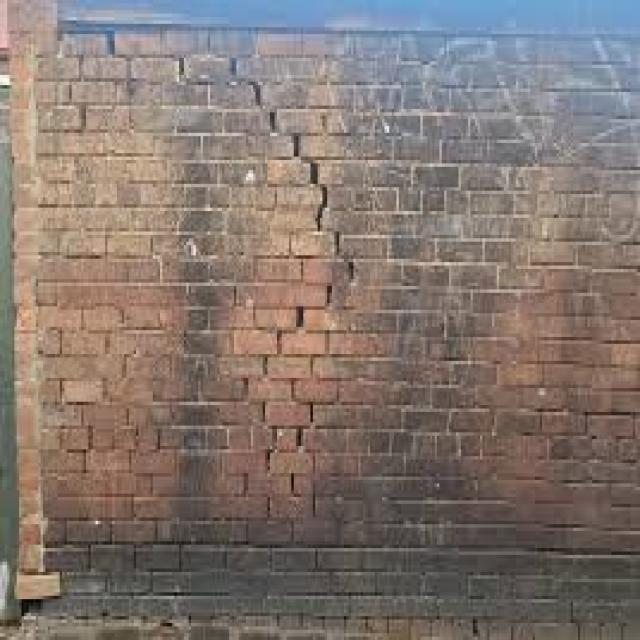Crack: (100, 24, 361, 555)
